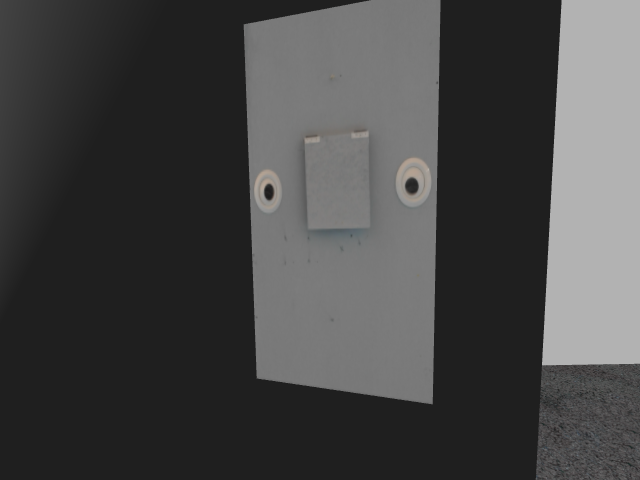facade: (250, 126, 433, 230)
